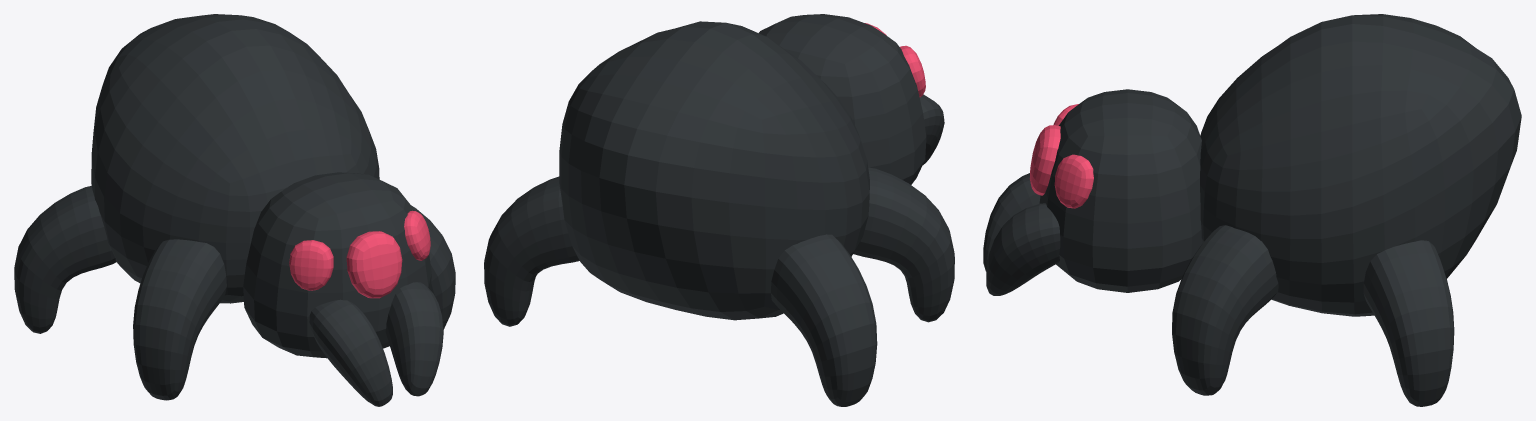
The model's file is arana.glb.
3 renders of one model, left to right at view 1: azimuth 30°, elevation 25°; view 2: azimuth 150°, elevation 25°; view 3: azimuth 270°, elevation 25°, orthographic. The views are drawn at different scales.
Parts seen in each view (by area): view 1: Arana; view 2: Arana; view 3: Arana.
Boxes of the visible parts, box(x1,y1,x2,y2) form: Arana: box(14, 14, 455, 406); Arana: box(484, 14, 954, 406); Arana: box(983, 14, 1521, 406).
Bounding box in the file's own units: 4.27 × 3.27 × 5.26.
